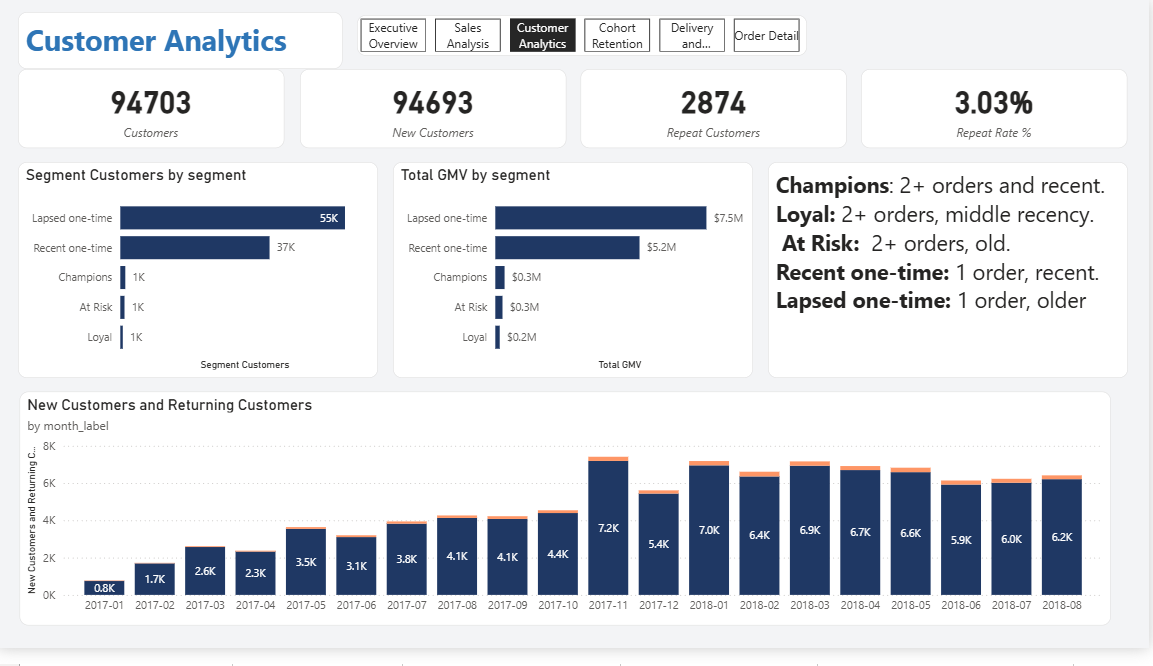

This screenshot's page, from the dashboard's own definition file:
{"tool":"powerbi","page":{"name":"Customer Analytics","canvas":[1280,720],"ordinal":2},"visuals":[{"type":"card","fields":{"Values":["_Measures.Customers"]},"box":[24,76,296,88],"z":0},{"type":"card","fields":{"Values":["_Measures.New Customers"]},"box":[336,76,296,88],"z":1000},{"type":"card","fields":{"Values":["_Measures.Repeat Rate %"]},"box":[960,76,296,88],"z":2000},{"type":"card","fields":{"Values":["_Measures.Repeat Customers"]},"box":[648,76,296,88],"z":3000},{"type":"barChart","fields":{"Category":["Customer.segment"],"Y":["_Measures.Segment Customers"]},"box":[24,180,400,240],"z":4000},{"type":"barChart","fields":{"Category":["Customer.segment"],"Y":["_Measures.Total GMV"]},"box":[440,180,400,240],"z":5000},{"type":"columnChart","fields":{"Category":["Date.month_label"],"Y":["_Measures.New Customers","_Measures.Returning Customers"]},"box":[25,435,1212.5,260],"z":6000},{"type":"textbox","box":[856,180,400,240],"z":7000},{"type":"textbox","box":[23.9,12.7,360.6,63.4],"z":8000},{"type":"pageNavigator","box":[400,16,500,45],"z":9000}]}

Visuals, with their boxes in screenshot pixels (x1, y1, x2, y2), scaled from the page's 1280x720 canvas onto the 1153x666 screenshot:
card - _Measures.Customers: left=22, top=70, right=288, bottom=152
card - _Measures.New Customers: left=303, top=70, right=569, bottom=152
card - _Measures.Repeat Rate %: left=865, top=70, right=1131, bottom=152
card - _Measures.Repeat Customers: left=584, top=70, right=850, bottom=152
barChart - Customer.segment x _Measures.Segment Customers: left=22, top=166, right=382, bottom=388
barChart - Customer.segment x _Measures.Total GMV: left=396, top=166, right=757, bottom=388
columnChart - Date.month_label x _Measures.New Customers: left=23, top=402, right=1115, bottom=643
textbox: left=771, top=166, right=1131, bottom=388
textbox: left=22, top=12, right=346, bottom=70
pageNavigator: left=360, top=15, right=811, bottom=56
